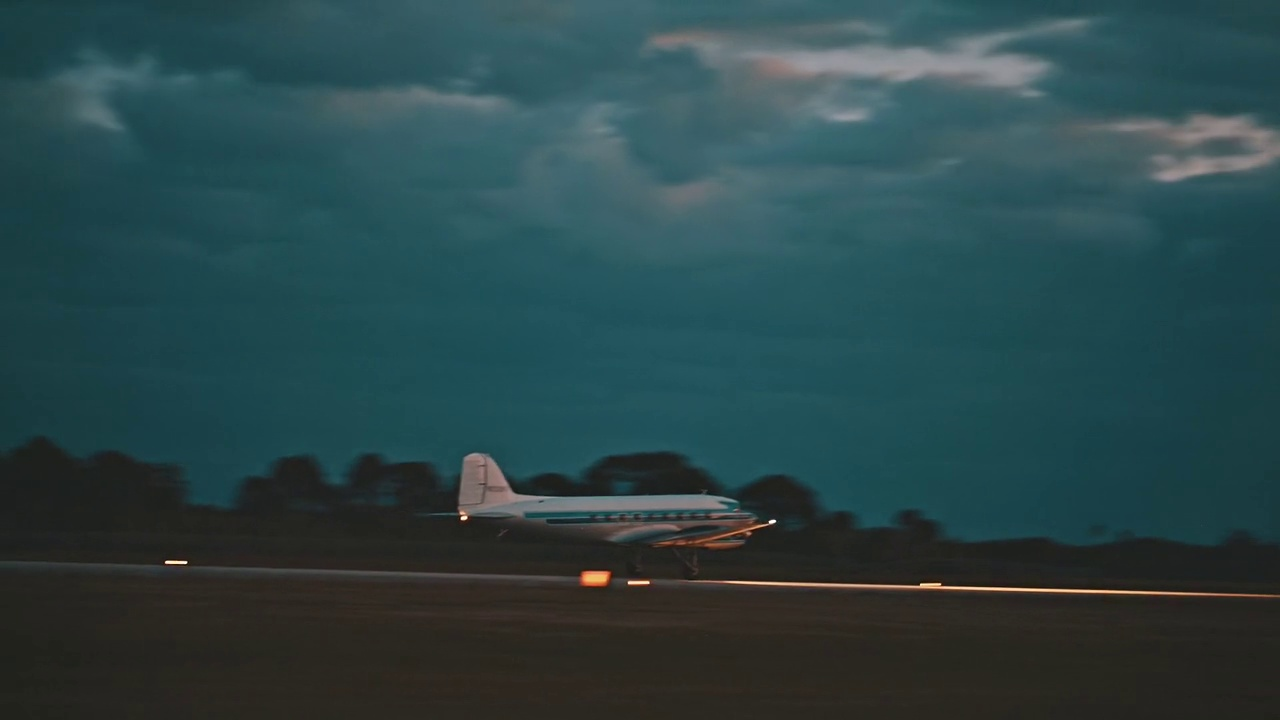plane: (414, 453, 777, 581)
